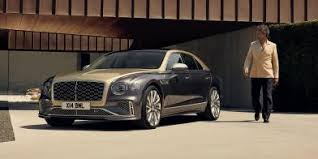car: (32, 48, 224, 132)
